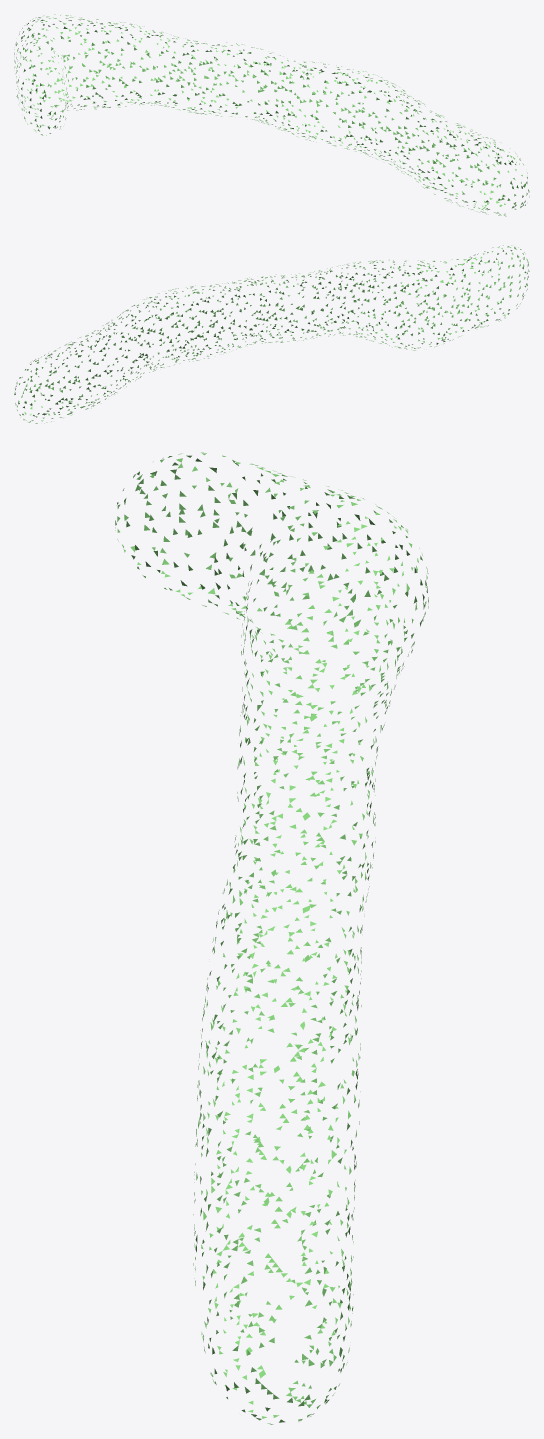
Rendered from morph_016.glb.
3 renders of one model, top to bottom at view 1: azimuth 30°, elevation 25°; view 2: azimuth 150°, elevation 25°; view 3: azimuth 270°, elevation 25°, orthographic. The views are drawn at different scales.
Size of the model in its own units: 113 by 60.79 by 32.35.
